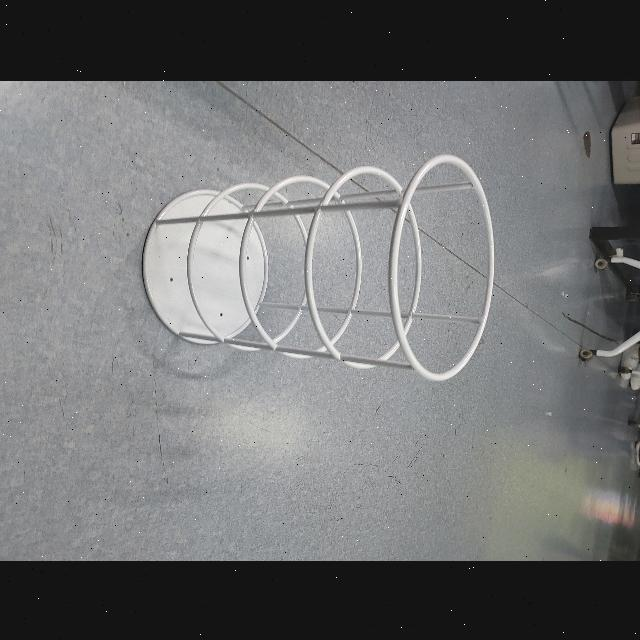S: (136, 148, 502, 384)
